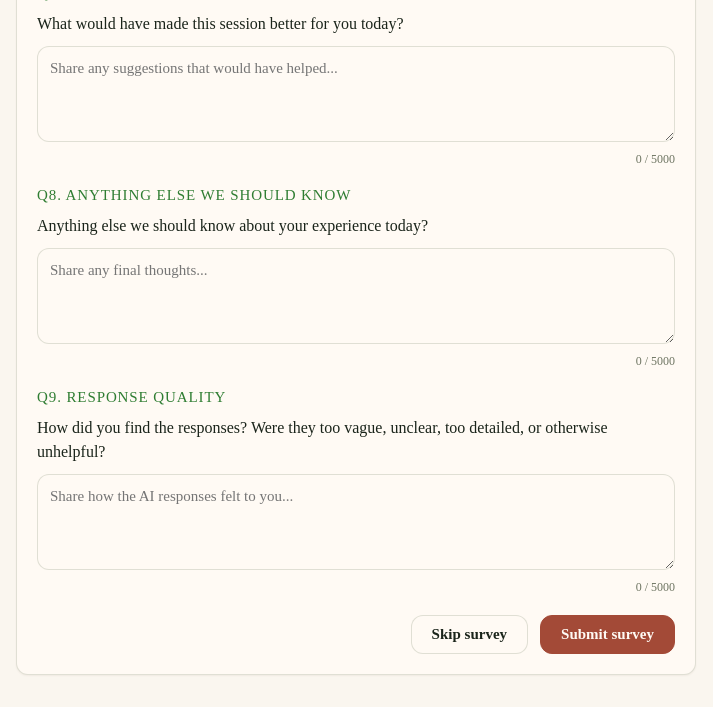
it: StudentExitSurveyPage › empty submit: shows a validation error and does not navigate
(page scrolled)
Step 1. Click the button with test id "survey-submit" → (608, 634), box [540, 615, 675, 654]
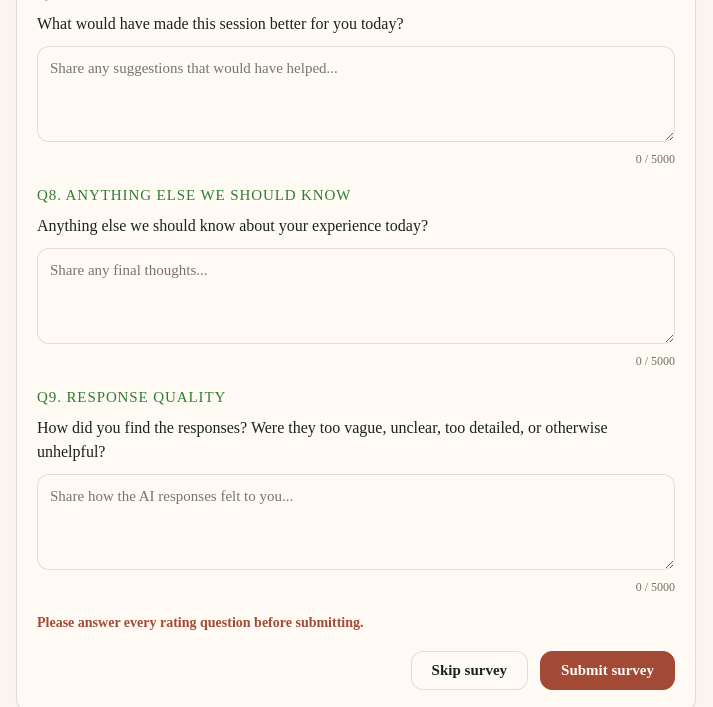
Check: the message shows "Please answer every rating question", box [37, 615, 364, 630]
